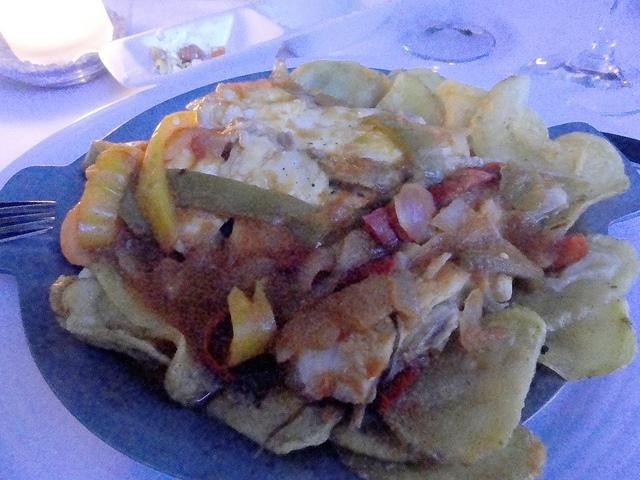bell pepper: (167, 168, 330, 249), (138, 111, 196, 238), (76, 149, 140, 250), (226, 278, 276, 368), (426, 166, 502, 217)
onion: (274, 271, 390, 364), (281, 230, 377, 319), (77, 140, 149, 248), (458, 220, 546, 280), (228, 282, 276, 368), (395, 184, 443, 246), (389, 242, 422, 318), (498, 160, 546, 211), (294, 244, 336, 294), (460, 288, 486, 352)
